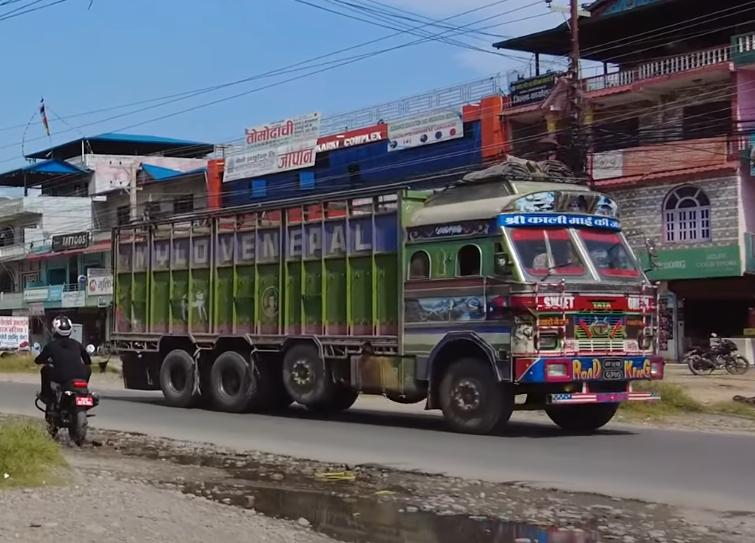bike: (34, 361, 99, 447), (683, 332, 749, 375)
truck: (104, 154, 666, 435)
